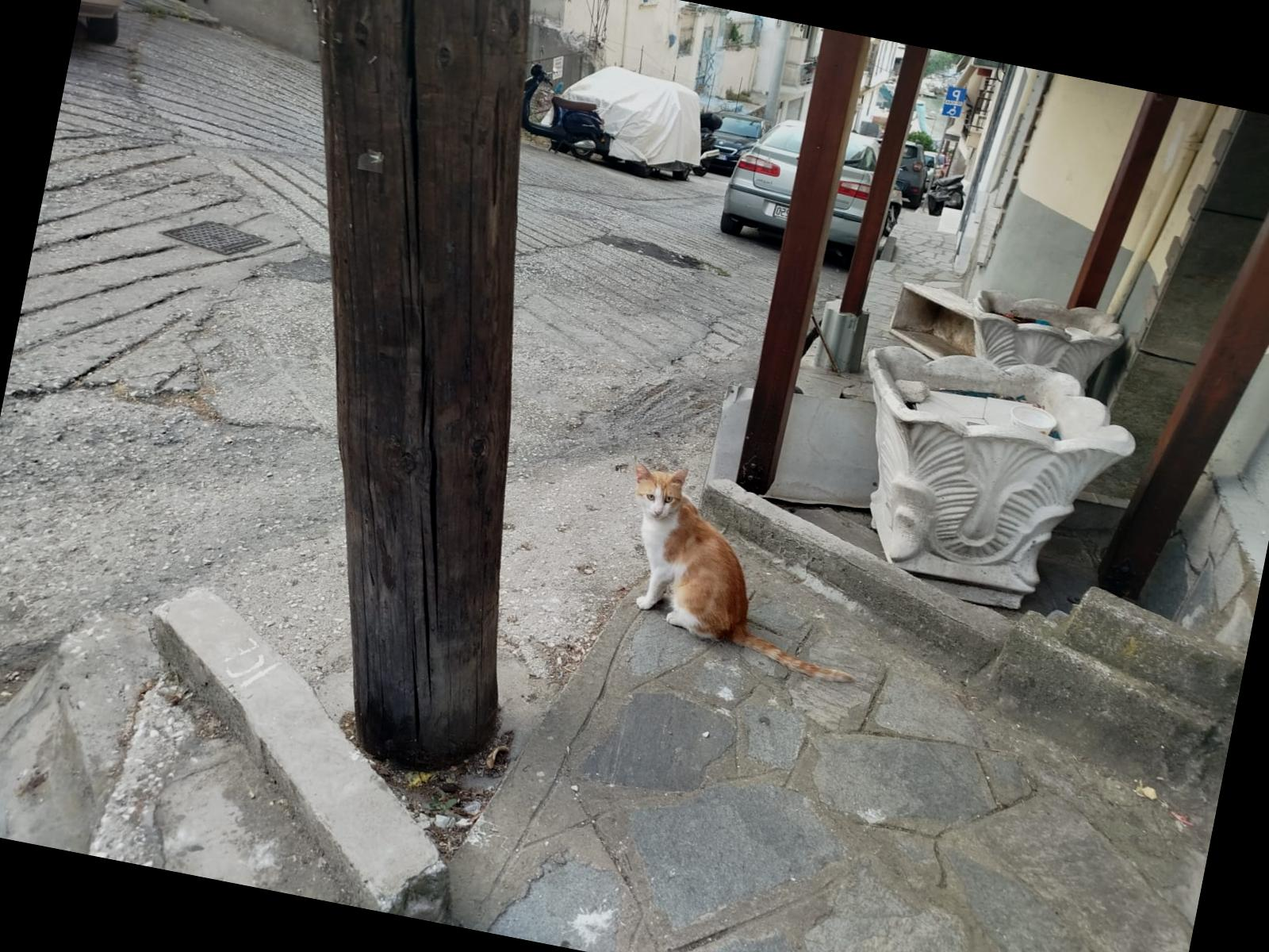macka: (603, 457, 887, 687)
